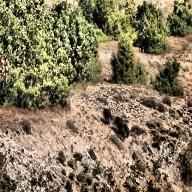boar: (100, 101, 115, 127), (122, 117, 132, 138), (114, 113, 123, 131)
